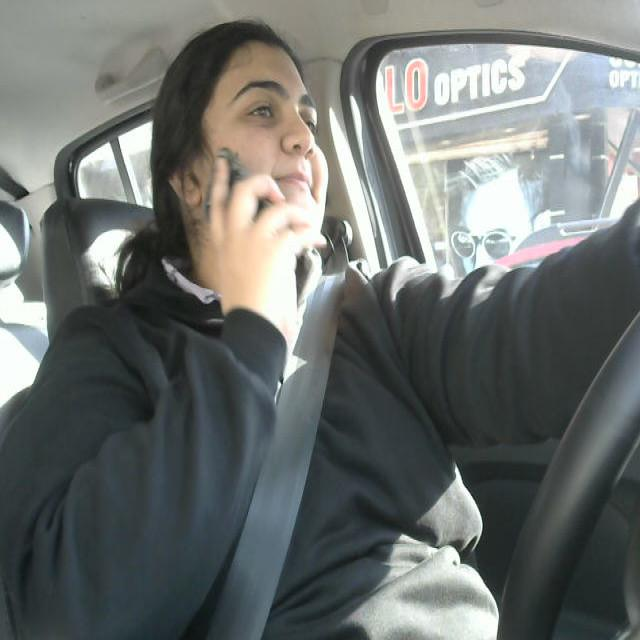mobile use: (196, 144, 316, 323)
